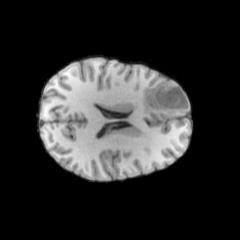glioma: (144, 83, 189, 117)
